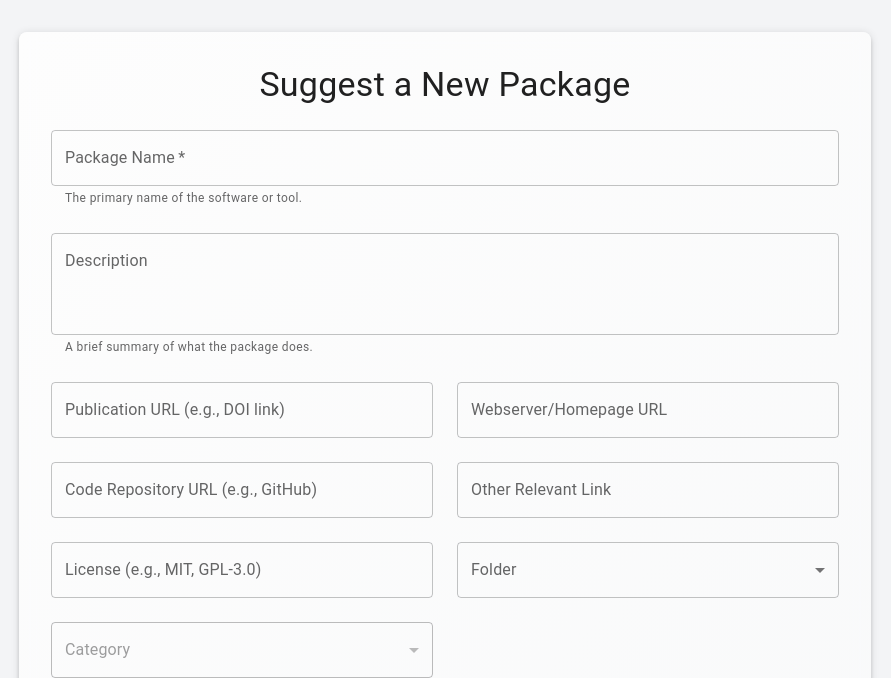
Test case: SuggestPackagePage — form submission › shows success message after successful submission
Type "MyTool" into the field labelled "Package Name *".
click(445, 158); type("MyTool")  # box [51,130,839,186]
(page scrolled)
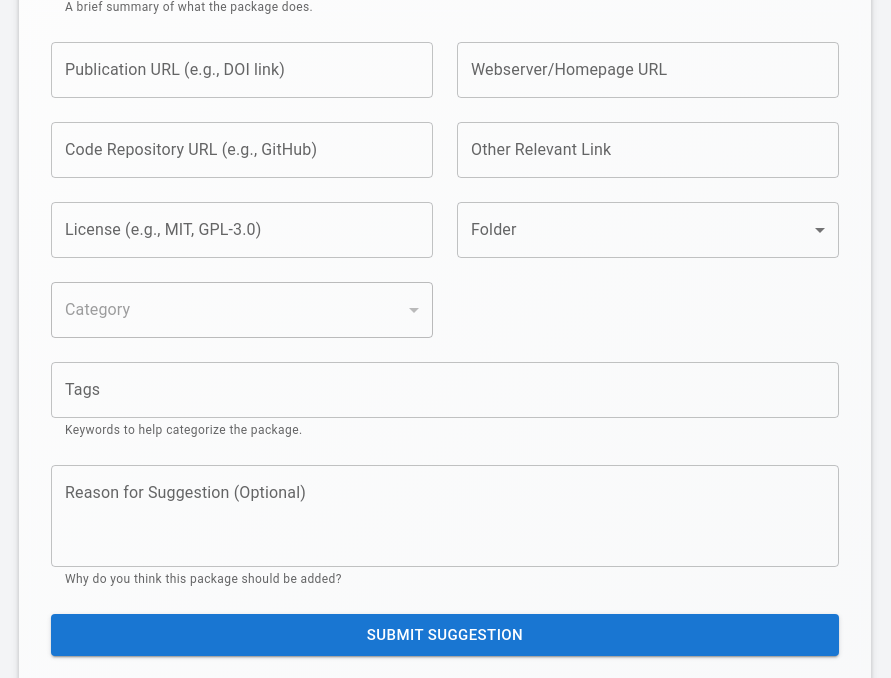
Click the button "Submit Suggestion".
click(445, 635)  # box [51,614,839,656]
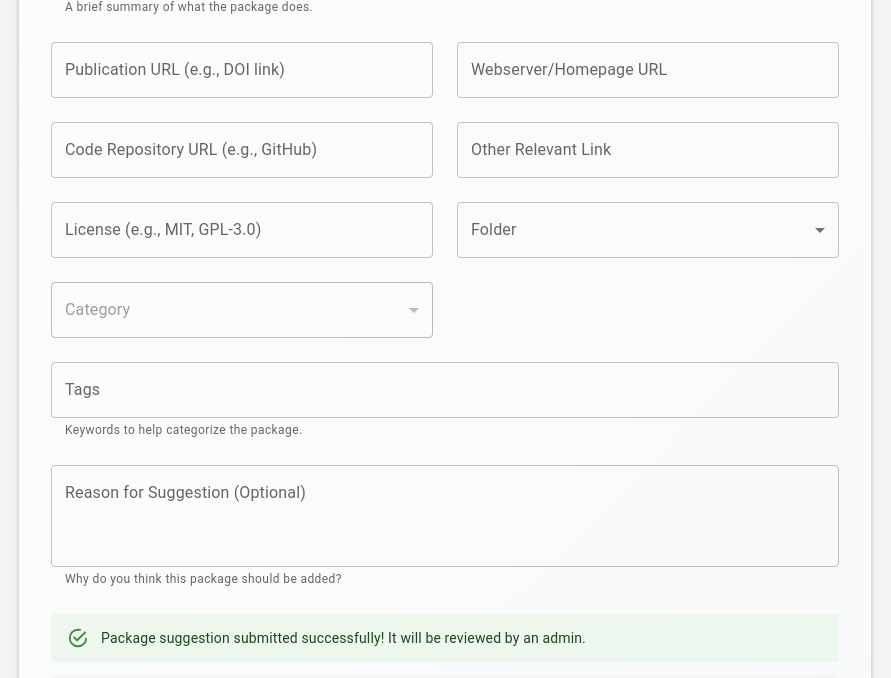
expect the text "submitted successfully" is shown: met, box [101,630,586,646]
